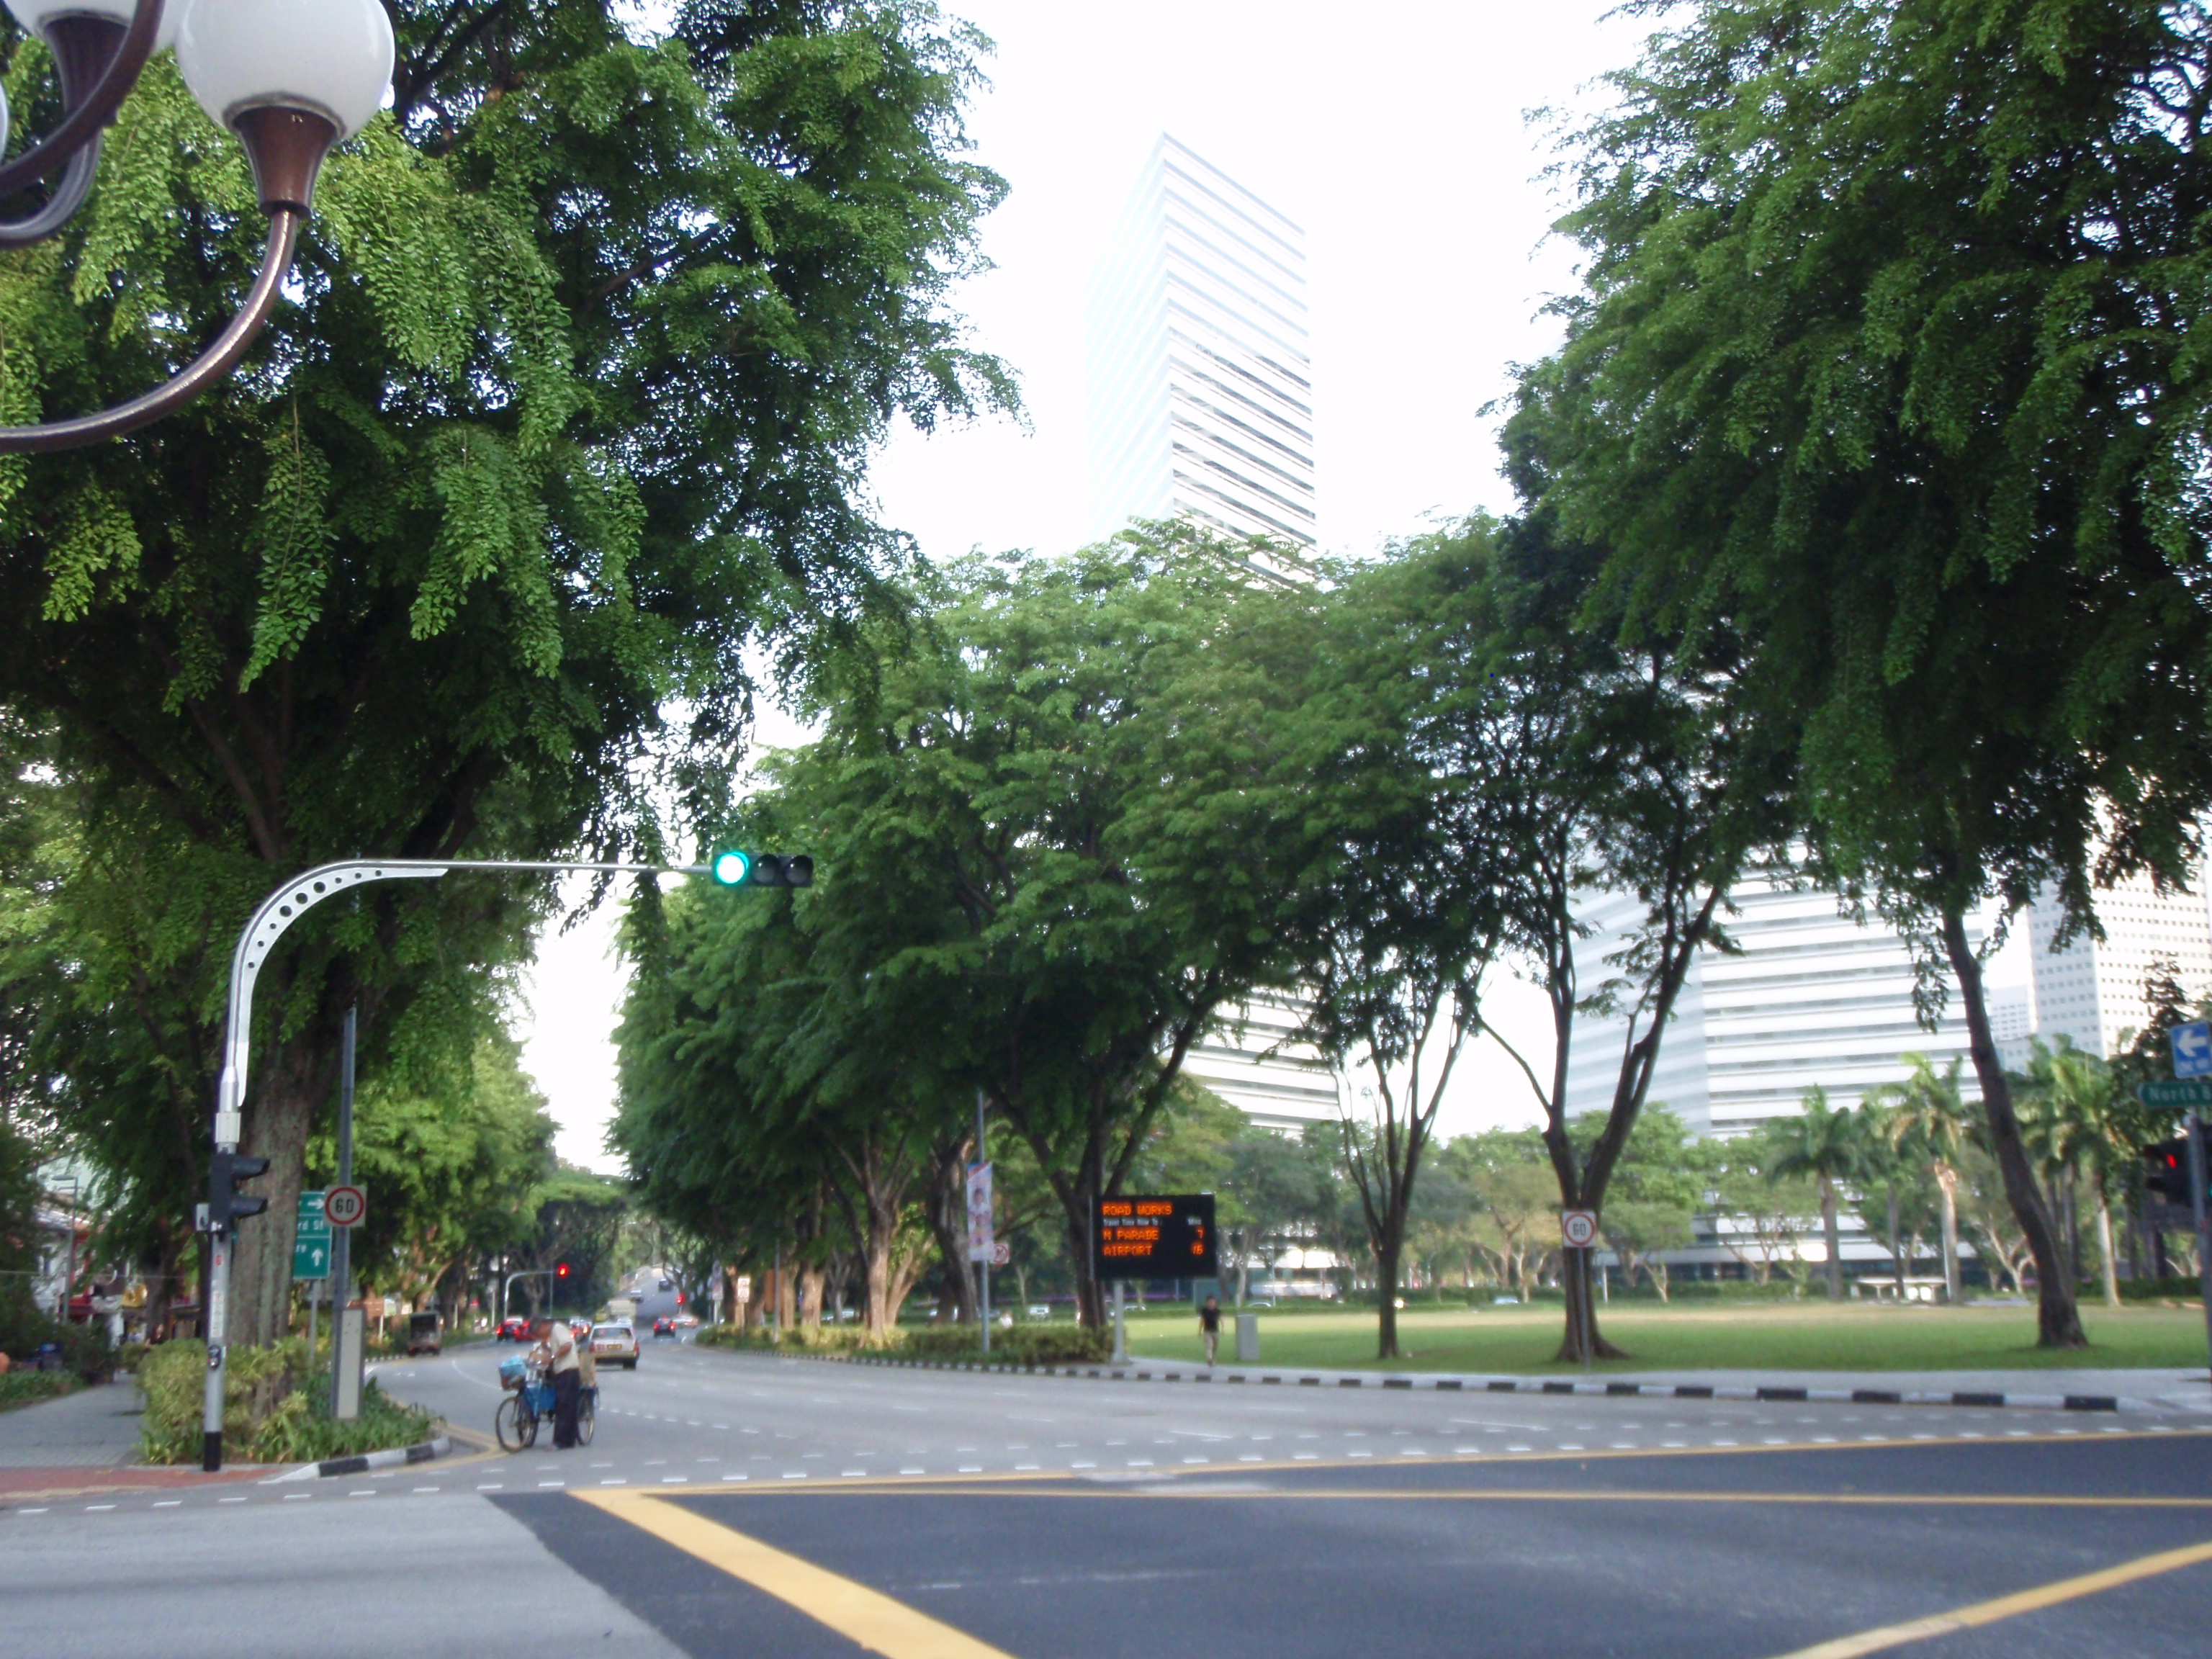pole: (204, 1236, 225, 1469), (333, 1173, 352, 1422), (1576, 1243, 1595, 1377), (1113, 1284, 1127, 1368)
tree: (1998, 1124, 2097, 1352), (246, 1105, 291, 1424), (1367, 1185, 1411, 1359)
tree branches: (399, 288, 796, 622), (1775, 173, 2155, 373), (1731, 457, 2041, 690), (266, 664, 590, 826), (1170, 772, 1428, 948), (941, 915, 1151, 1093), (707, 958, 925, 1098)
